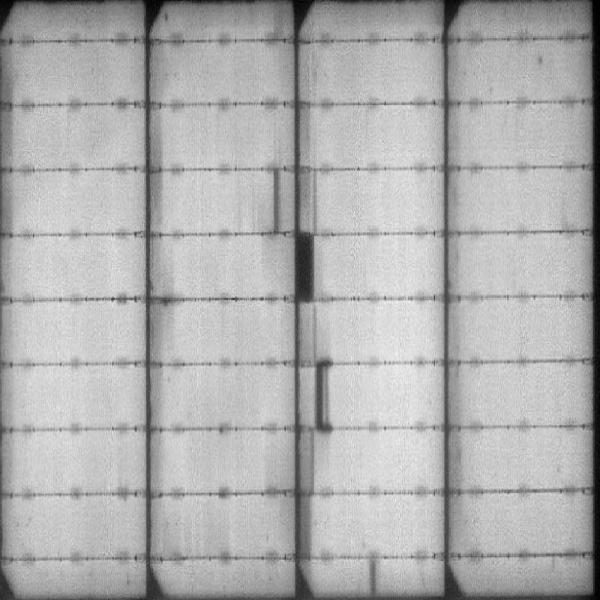black_border: (268, 164, 325, 233), (291, 430, 320, 554), (310, 360, 339, 424), (294, 238, 320, 297)
scratch: (362, 558, 379, 600)
